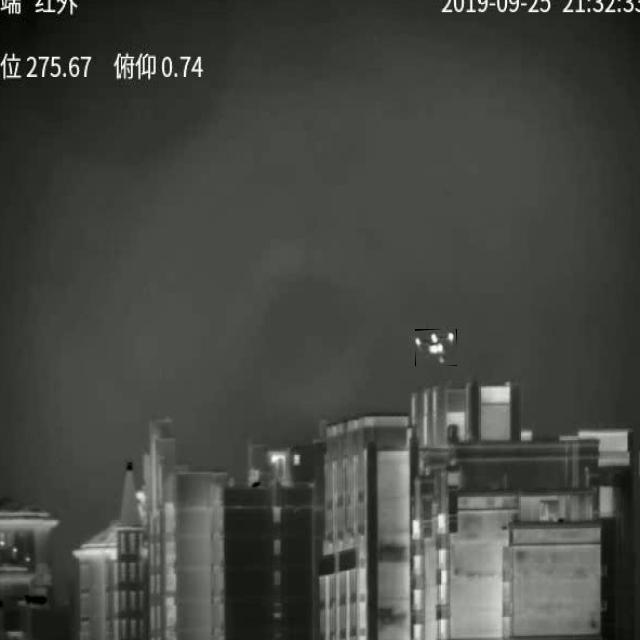drone: (415, 330, 456, 366)
